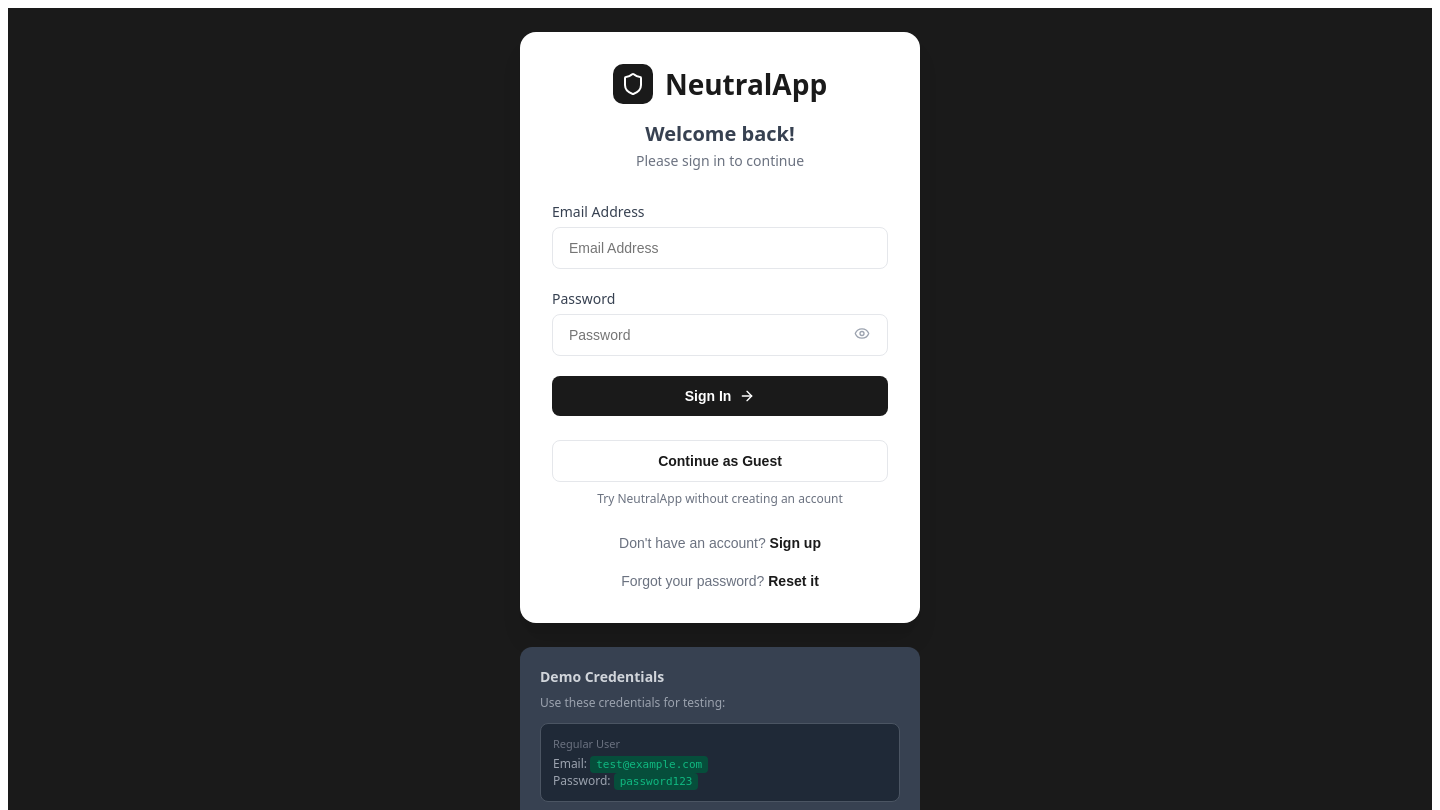
Scenario: AuthPage › Loading States › should show loading state during form submission
This screenshot has width=1440, height=810.
Type "test@example.com" into the field with placeholder "Email Address".
click(720, 248); type("test@example.com")  # box [552,227,888,269]
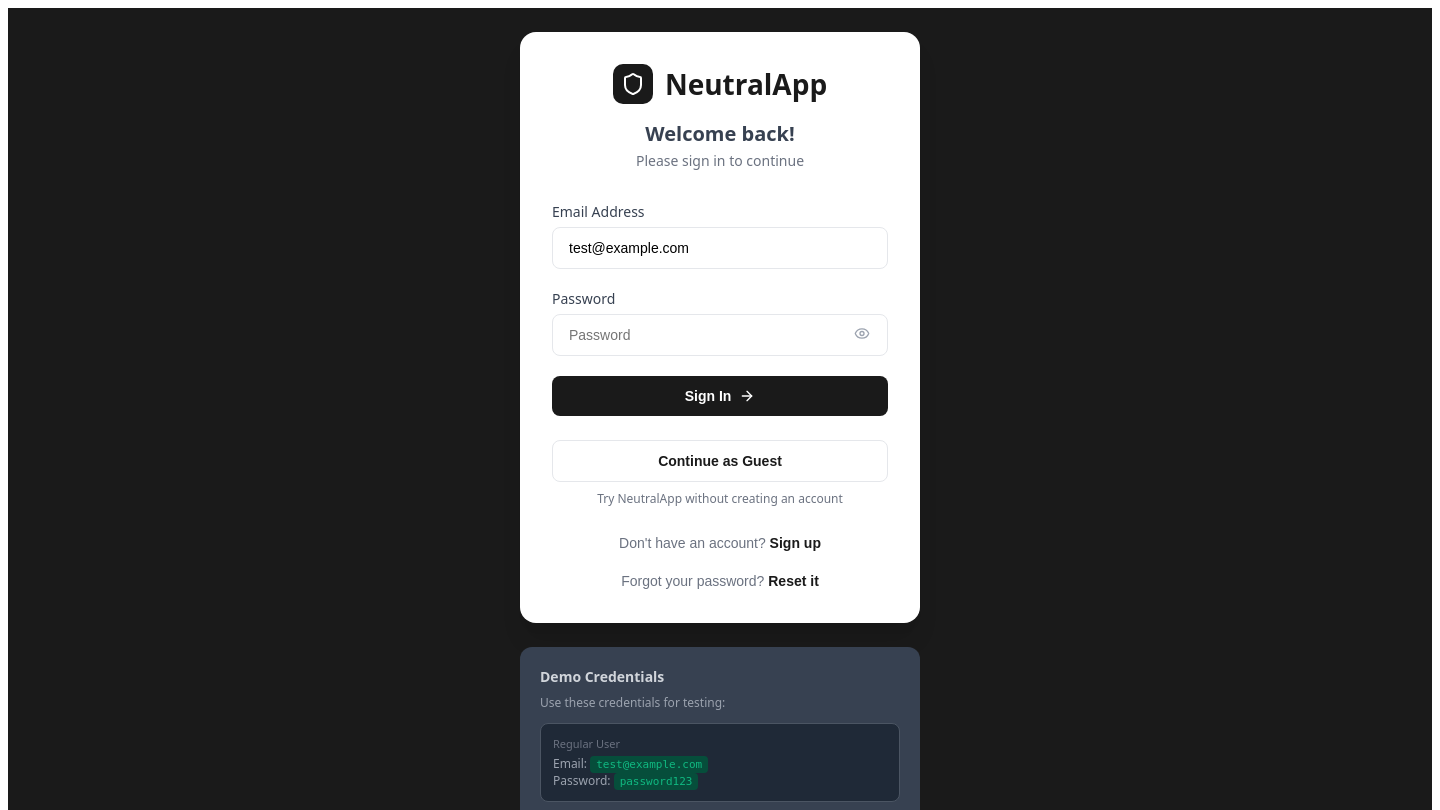
Type "password123" into the password field with placeholder "Password".
click(720, 335); type("password123")  # box [552,314,888,356]
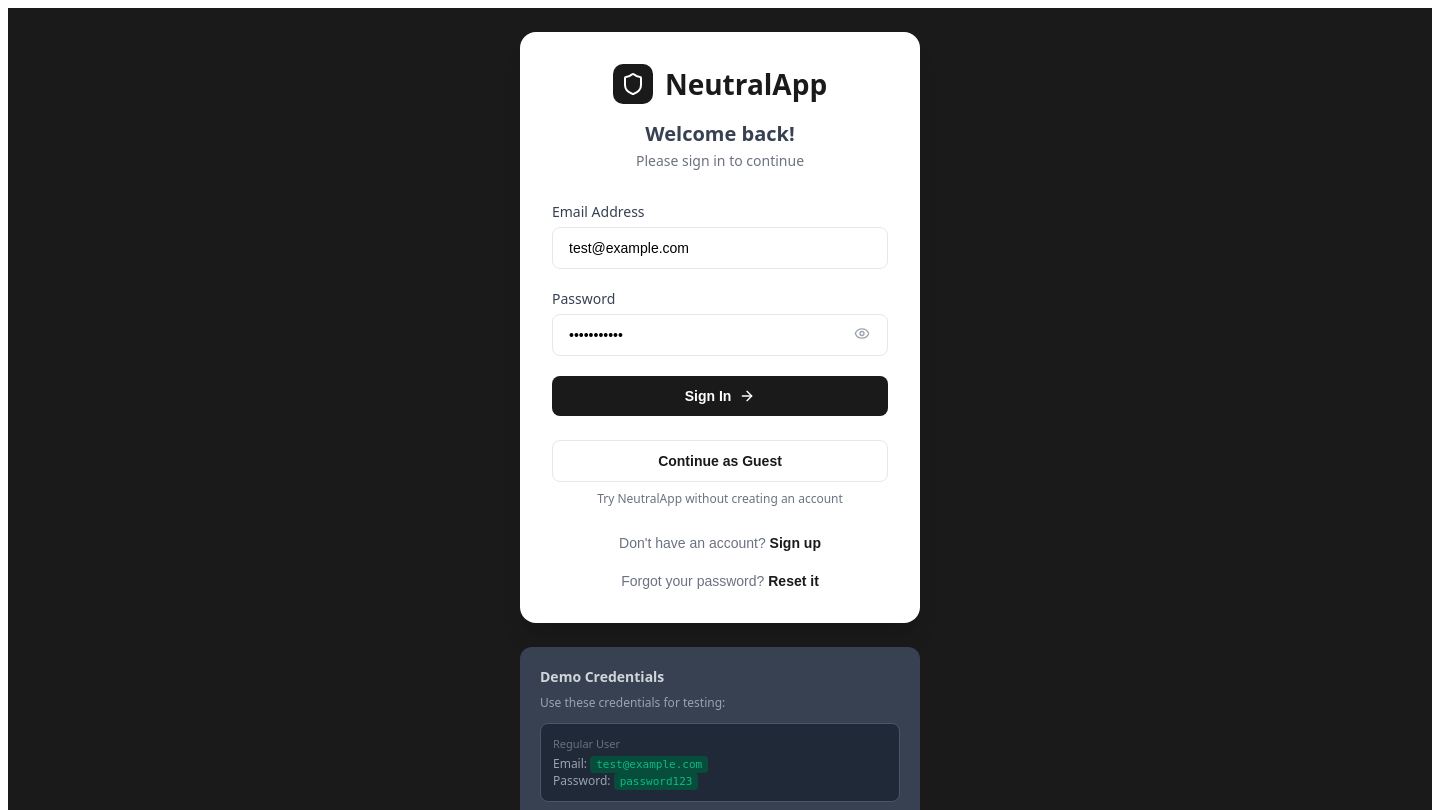
Click the button and immediately check for disabled state
Click the button "Sign In".
click(720, 396)  # box [552,376,888,416]
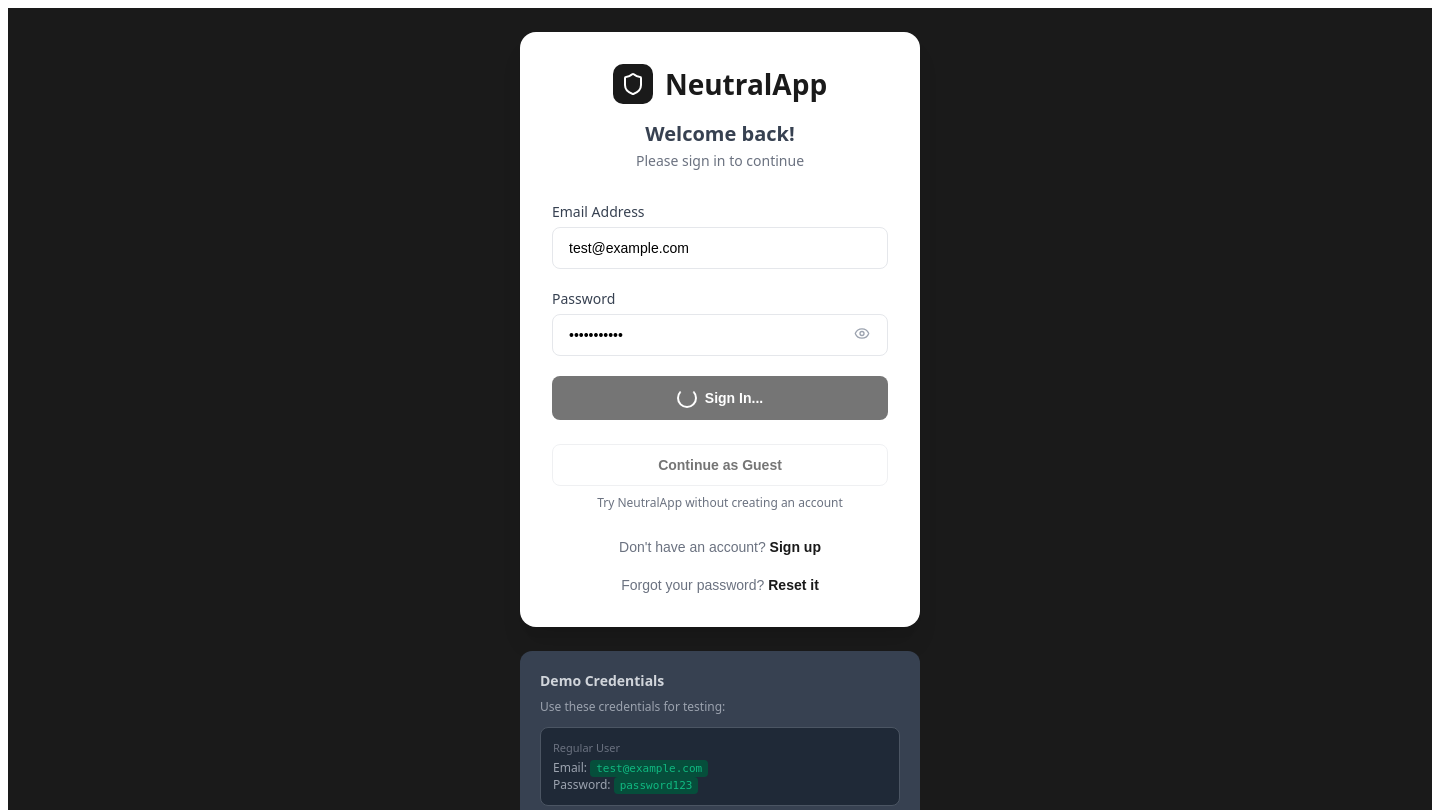
Check: the button "Sign In..." is disabled, box [552,376,888,420]
